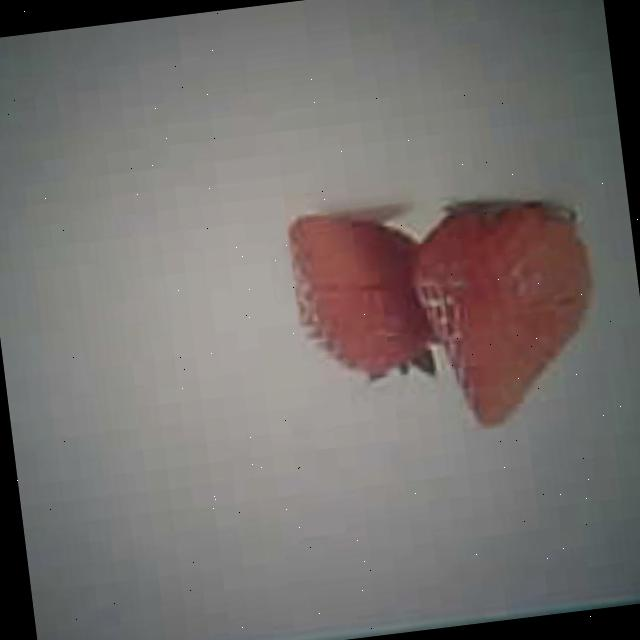strawberry: (410, 200, 610, 430), (283, 202, 440, 388)
